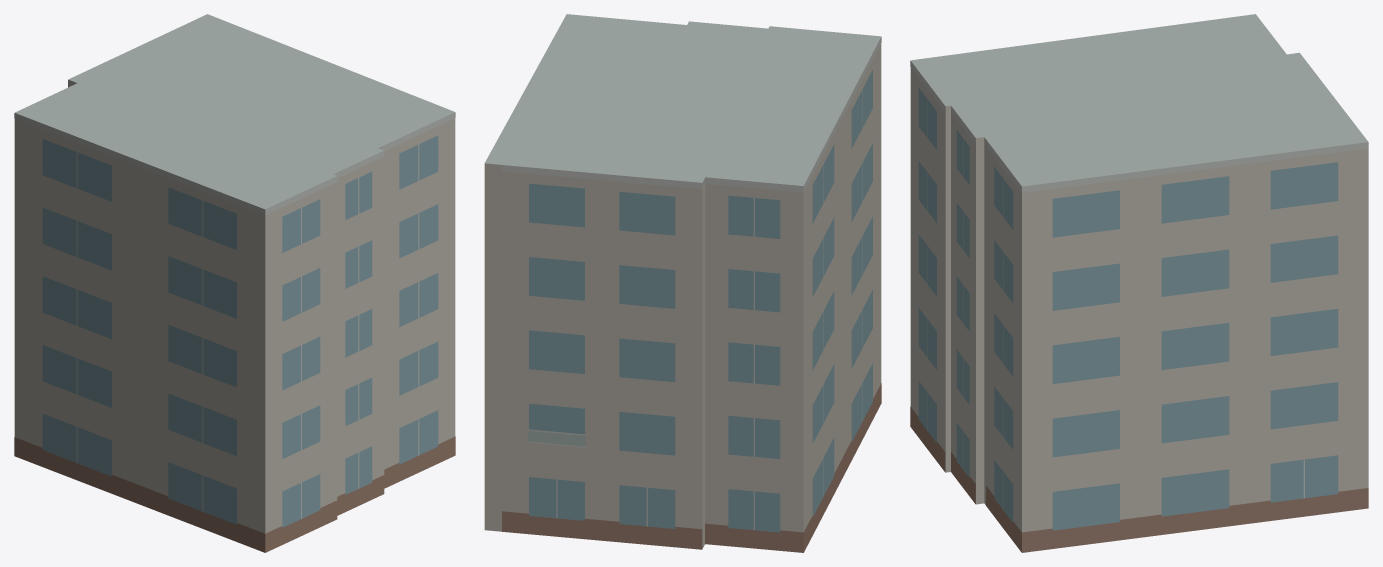
Rendered from survey-upis-32621344.glb.
3 views of the same model, side by side, from view 1: azimuth 30°, elevation 25°; view 2: azimuth 150°, elevation 25°; view 3: azimuth 270°, elevation 25° (orthographic). The views are drawn at different scales.
Visible parts, largest first — view 1: survey-upis-32621344.tmp; view 2: survey-upis-32621344.tmp; view 3: survey-upis-32621344.tmp.
Boxes of the visible parts, x1,y1,x2,y2 form: survey-upis-32621344.tmp: (14, 14, 455, 552); survey-upis-32621344.tmp: (484, 14, 881, 552); survey-upis-32621344.tmp: (910, 14, 1368, 552).
Bounding box in the file's own units: 14.1 × 13.95 × 15.82.
